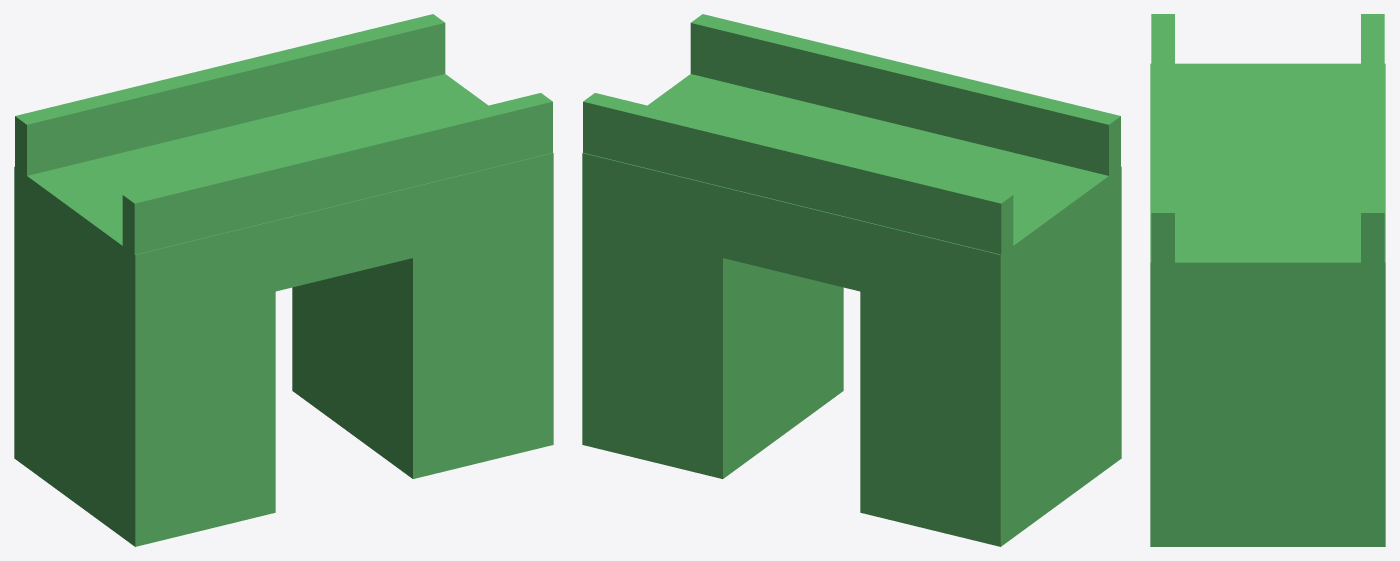
The model's file is fortress_gatehouse_collision.glb.
3 renders of one model, left to right at view 1: azimuth 30°, elevation 25°; view 2: azimuth 150°, elevation 25°; view 3: azimuth 270°, elevation 25°, orthographic. The views are drawn at different scales.
Visible parts, largest first — view 1: fortress_gatehouse-col-left, fortress_gatehouse-col-right, fortress_gatehouse-col-parapet-2.14, fortress_gatehouse-col-parapet--2.14, fortress_gatehouse-col-upper; view 2: fortress_gatehouse-col-left, fortress_gatehouse-col-right, fortress_gatehouse-col-parapet--2.14, fortress_gatehouse-col-parapet-2.14, fortress_gatehouse-col-upper; view 3: fortress_gatehouse-col-right, fortress_gatehouse-col-left, fortress_gatehouse-col-upper, fortress_gatehouse-col-parapet-2.14, fortress_gatehouse-col-parapet--2.14.
Part boxes in pixels (box(x1,y1,x2,y2)): fortress_gatehouse-col-left: box(14, 141, 275, 546); fortress_gatehouse-col-right: box(292, 74, 553, 478); fortress_gatehouse-col-parapet-2.14: box(15, 14, 445, 175); fortress_gatehouse-col-parapet--2.14: box(122, 93, 552, 254); fortress_gatehouse-col-upper: box(168, 108, 412, 291); fortress_gatehouse-col-left: box(860, 141, 1121, 546); fortress_gatehouse-col-right: box(582, 74, 843, 478); fortress_gatehouse-col-parapet--2.14: box(690, 14, 1120, 175); fortress_gatehouse-col-parapet-2.14: box(583, 93, 1013, 254); fortress_gatehouse-col-upper: box(723, 108, 967, 291); fortress_gatehouse-col-right: box(1150, 196, 1385, 546); fortress_gatehouse-col-left: box(1150, 63, 1385, 130); fortress_gatehouse-col-upper: box(1150, 130, 1385, 195); fortress_gatehouse-col-parapet-2.14: box(1361, 14, 1384, 262); fortress_gatehouse-col-parapet--2.14: box(1151, 14, 1174, 262).
Size of the model in its own units: 9.6 by 7.52 by 4.8.
